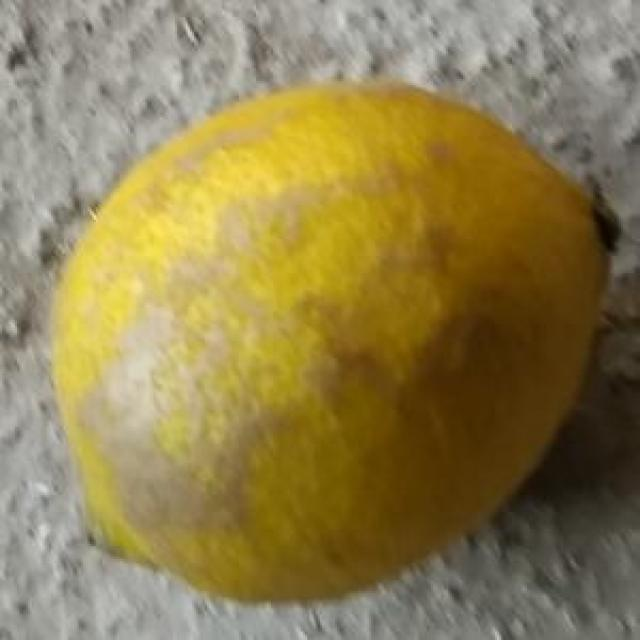lemon: (57, 68, 614, 613)
